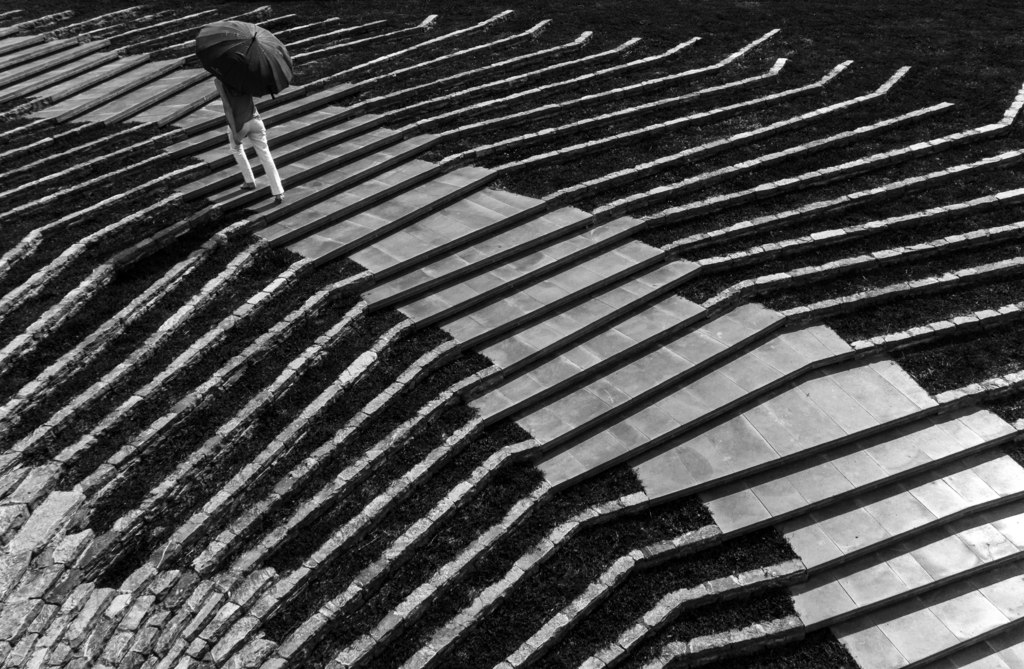Footwear: (239, 182, 261, 190), (273, 194, 289, 205)
